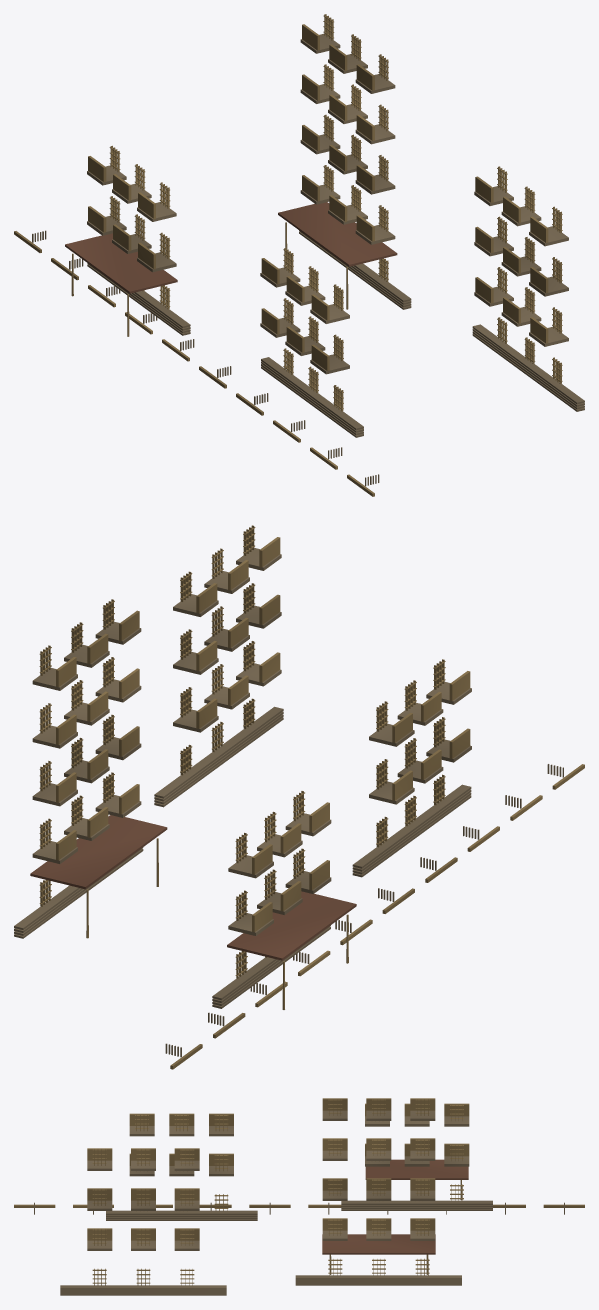
File: market-detail.glb
The picture shows the model from 3 angles, top to bottom: view 1: azimuth 30°, elevation 25°; view 2: azimuth 150°, elevation 25°; view 3: azimuth 270°, elevation 25°; orthographic projection. The views are drawn at different scales.
Parts seen in each view (by area): view 1: 54e-bronze, 54e-sand, 54e-cloth; view 2: 54e-bronze, 54e-sand, 54e-cloth; view 3: 54e-sand, 54e-bronze, 54e-cloth.
Boxes of the visible parts, <box> form: 54e-bronze: <box>14,14,562,496</box>; 54e-sand: <box>32,33,584,486</box>; 54e-cloth: <box>65,202,397,293</box>; 54e-bronze: <box>39,525,584,1069</box>; 54e-sand: <box>14,548,563,1057</box>; 54e-cloth: <box>30,815,356,960</box>; 54e-sand: <box>34,1110,564,1295</box>; 54e-bronze: <box>14,1098,584,1285</box>; 54e-cloth: <box>322,1159,468,1254</box>.
Size of the model in its own units: 16.5 by 14.32 by 38.8.
